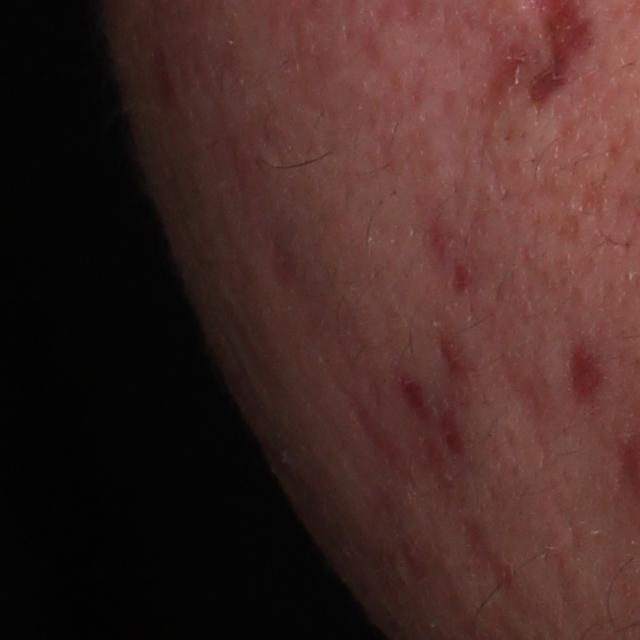atrophic_scar: (458, 514, 514, 589), (431, 313, 469, 389), (571, 337, 606, 408), (392, 364, 433, 420), (440, 391, 469, 468), (449, 259, 470, 293)
